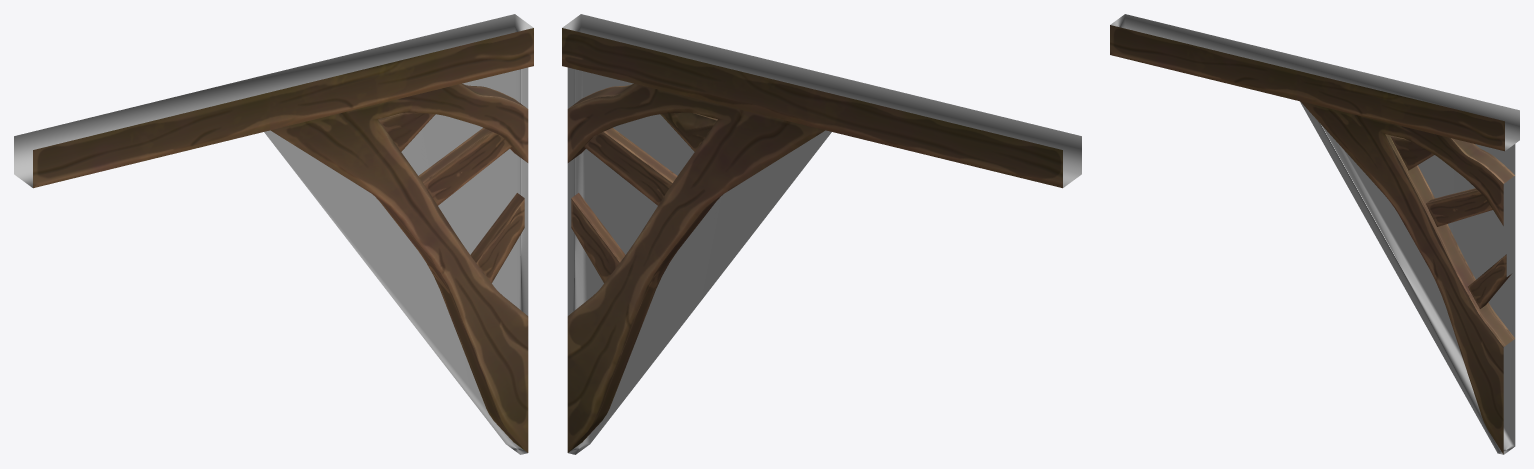
File: SM_FacadePart_04.gltf
The picture shows the model from 3 angles, left to right: view 1: azimuth 30°, elevation 25°; view 2: azimuth 150°, elevation 25°; view 3: azimuth 330°, elevation 25°; orthographic projection. The views are drawn at different scales.
Parts seen in each view (by area): view 1: SM_FacadePart_04_LOD0, SM_FacadePart_04_ConvexHulls; view 2: SM_FacadePart_04_LOD0, SM_FacadePart_04_ConvexHulls; view 3: SM_FacadePart_04_LOD0, SM_FacadePart_04_ConvexHulls.
Boxes of the visible parts, x1=… form: SM_FacadePart_04_LOD0: x1=33, y1=28, x2=533, y2=452; SM_FacadePart_04_ConvexHulls: x1=14, y1=14, x2=533, y2=454; SM_FacadePart_04_LOD0: x1=562, y1=28, x2=1062, y2=452; SM_FacadePart_04_ConvexHulls: x1=562, y1=14, x2=1081, y2=454; SM_FacadePart_04_LOD0: x1=1110, y1=25, x2=1515, y2=454; SM_FacadePart_04_ConvexHulls: x1=1110, y1=14, x2=1519, y2=454.
Size of what is drawn, in the model's own units: 2.75 by 2.23 by 0.1804.
2 materials, 1 textured.
